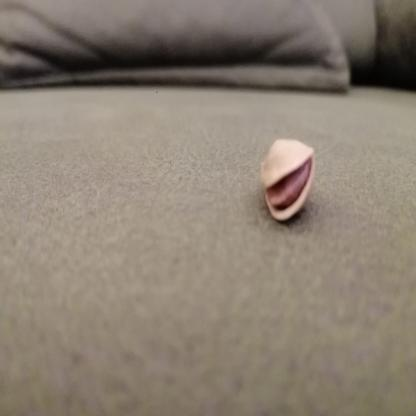pistachio: (261, 135, 319, 229)
